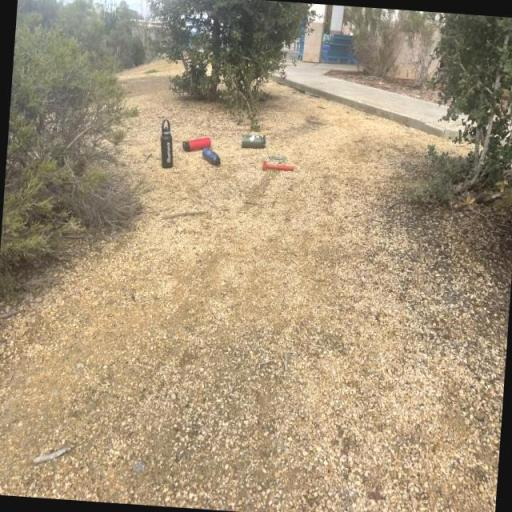bottle: (158, 118, 176, 169), (182, 135, 211, 153), (240, 132, 266, 150), (201, 146, 221, 165)
mallet: (260, 160, 295, 173)
